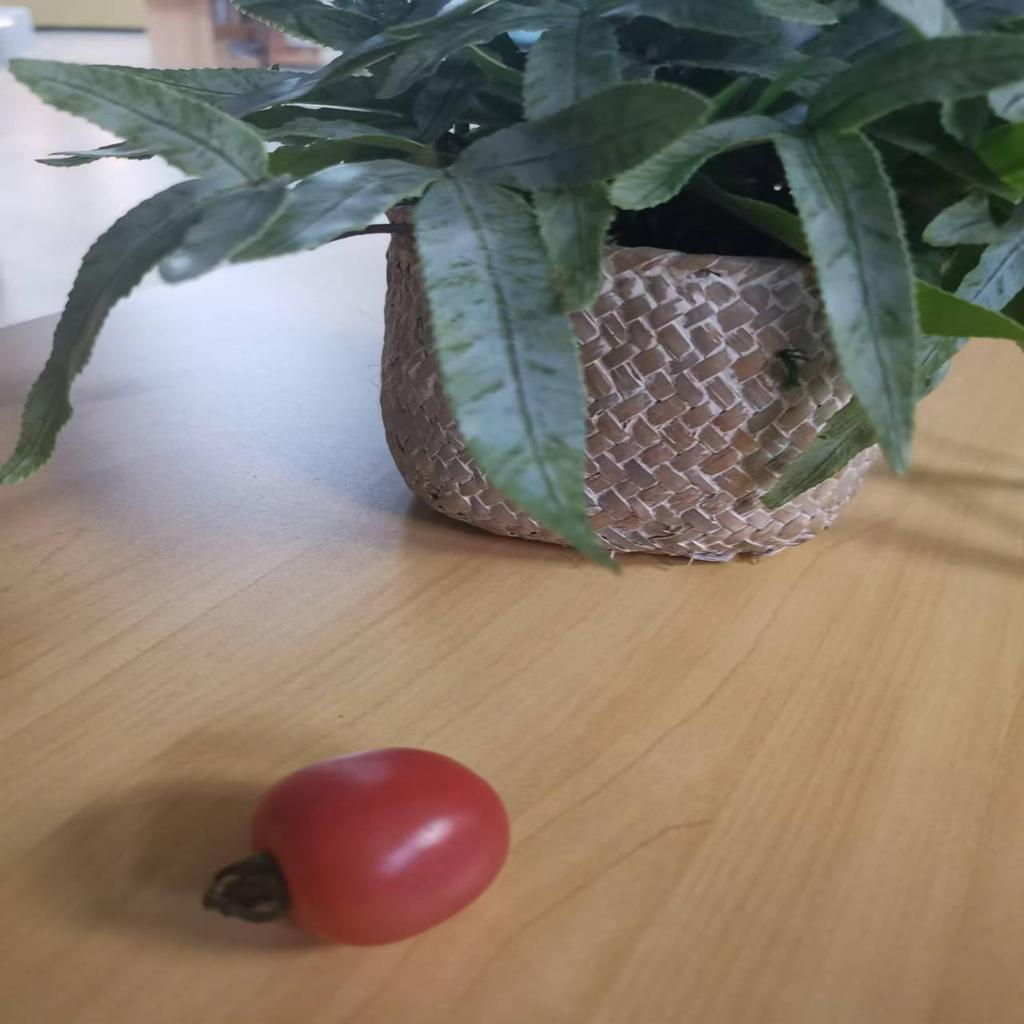tomato: (245, 749, 523, 935)
